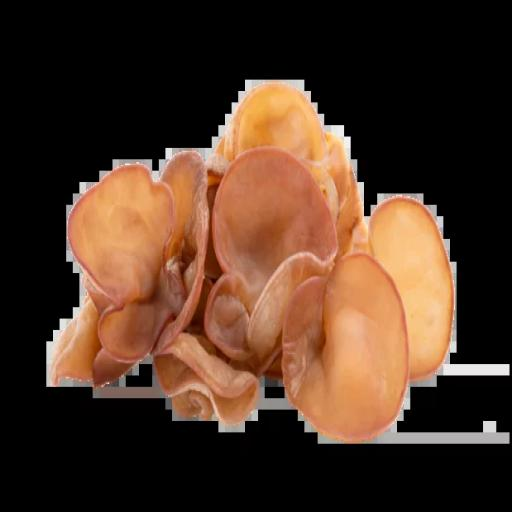Wood Ear Mushroom: (45, 66, 461, 456)
